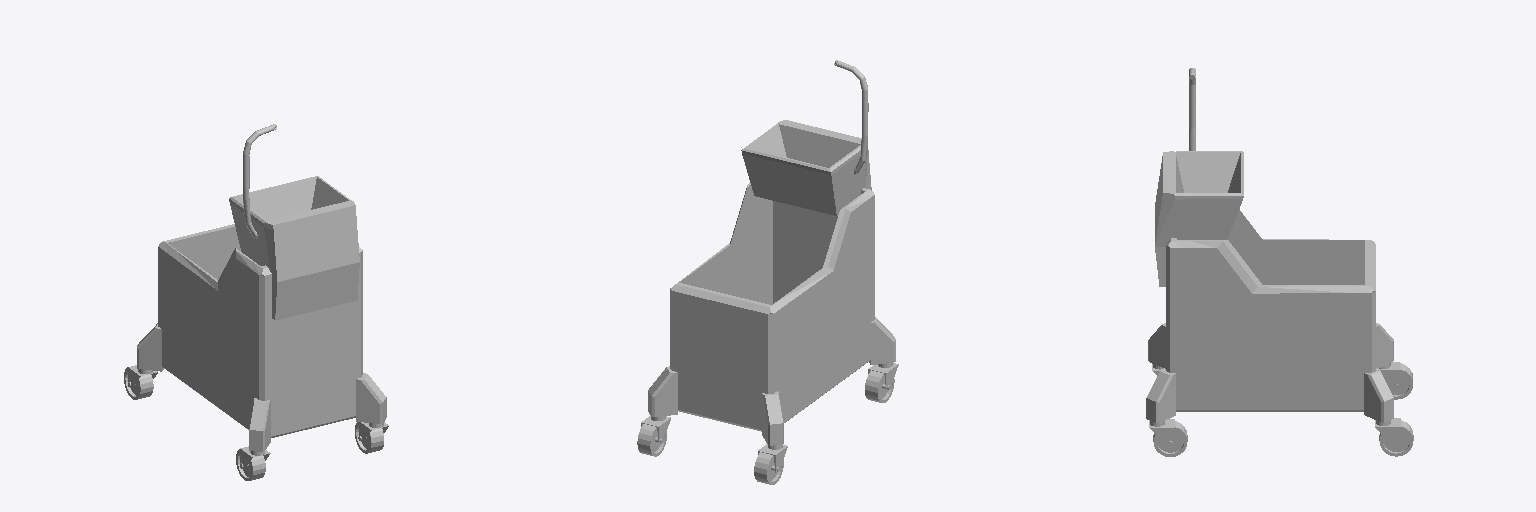
Rendered from Rolling Water Bucket.obj.
3 views of the same model, side by side, from view 1: azimuth 30°, elevation 25°; view 2: azimuth 150°, elevation 25°; view 3: azimuth 270°, elevation 25° (orthographic).
Visible parts, largest first — view 1: pCube11; view 2: pCube11; view 3: pCube11.
Boxes of the visible parts, x1,y1,x2,y2 form: pCube11: [124, 124, 388, 480]; pCube11: [637, 60, 898, 484]; pCube11: [1146, 68, 1413, 456].
Size of the model in its own units: 5.37 by 12.57 by 8.97.